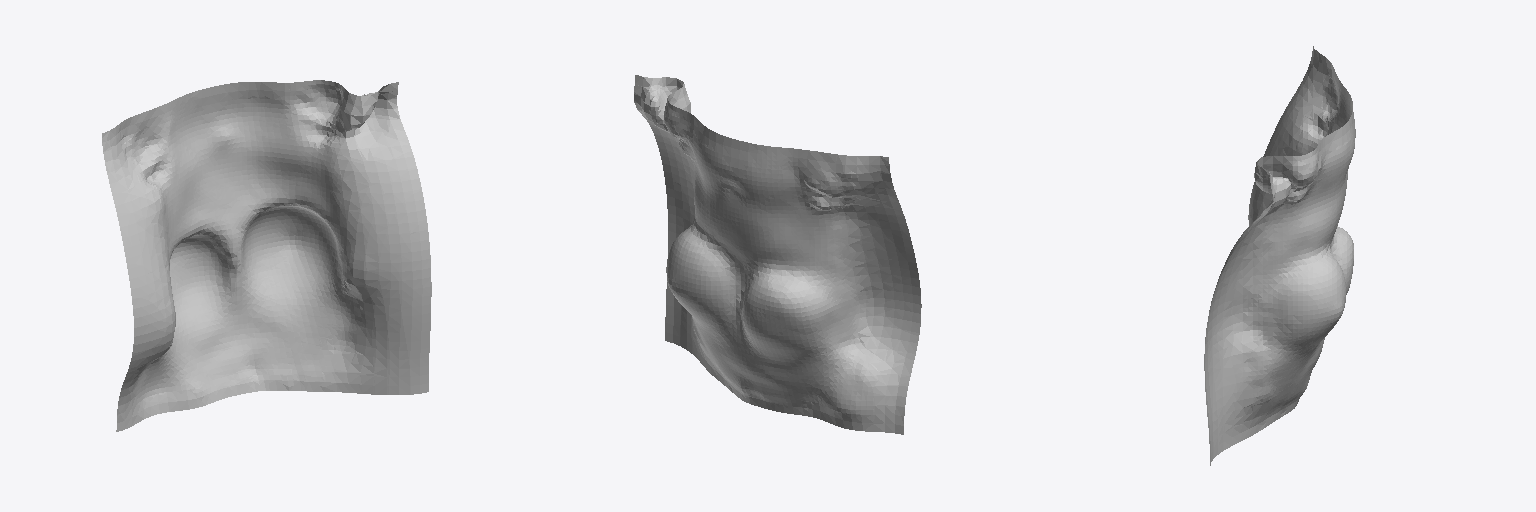
File: poisson_mesh.obj
3 views of the same model, side by side, from view 1: azimuth 30°, elevation 25°; view 2: azimuth 150°, elevation 25°; view 3: azimuth 270°, elevation 25° (orthographic).
Bounding box in the file's own units: 2.15 × 2.15 × 1.02.